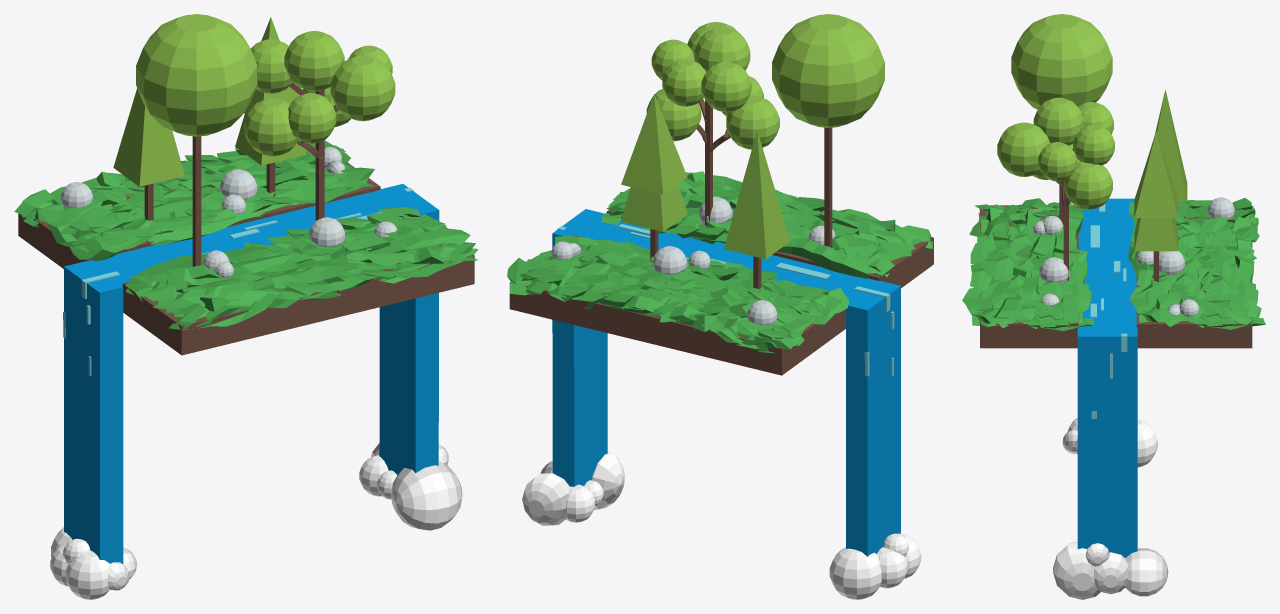
Rendered from Forest by Alex Safayan - 2roPjnG73zv.glb.
The picture shows the model from 3 angles, left to right: view 1: azimuth 30°, elevation 25°; view 2: azimuth 150°, elevation 25°; view 3: azimuth 270°, elevation 25°; orthographic projection. The views are drawn at different scales.
Parts seen in each view (by area): view 1: group467616762, group1762514853, group1962764479, group1963308306, group118700465, group2073899841, group924791414, group2004984180, group793449291, group458020988, group1205465414, group973619513 (+25 smaller); view 2: group467616762, group1762514853, group1962764479, group428175984, group458020988, group924791414, group118700465, group1205465414, group2069381533, group2073899841, group371166117, group1412891936 (+25 smaller); view 3: group1962764479, group1762514853, group118700465, group458020988, group793449291, group428175984, group2004984180, group371166117, group1963308306, group2069381533, group2073899841, group532427426 (+24 smaller).
Part boxes in pixels (x1=…): group467616762: x1=64, y1=261, x2=123, y2=563; group1762514853: x1=136, y1=14, x2=257, y2=136; group1962764479: x1=379, y1=184, x2=439, y2=474; group1963308306: x1=122, y1=244, x2=474, y2=355; group118700465: x1=88, y1=190, x2=403, y2=286; group2073899841: x1=125, y1=268, x2=299, y2=329; group924791414: x1=14, y1=177, x2=246, y2=252; group2004984180: x1=186, y1=222, x2=477, y2=283; group793449291: x1=243, y1=207, x2=475, y2=300; group458020988: x1=92, y1=152, x2=374, y2=218; group1205465414: x1=113, y1=88, x2=184, y2=186; group973619513: x1=391, y1=462, x2=462, y2=530; group467616762: x1=846, y1=280, x2=900, y2=556; group1762514853: x1=772, y1=14, x2=884, y2=127; group1962764479: x1=552, y1=209, x2=607, y2=486; group428175984: x1=509, y1=235, x2=845, y2=375; group458020988: x1=541, y1=237, x2=751, y2=317; group924791414: x1=687, y1=260, x2=842, y2=353; group118700465: x1=578, y1=218, x2=878, y2=302; group1205465414: x1=724, y1=130, x2=790, y2=258; group2069381533: x1=621, y1=94, x2=687, y2=194; group2073899841: x1=820, y1=209, x2=932, y2=276; group371166117: x1=519, y1=235, x2=749, y2=316; group1412891936: x1=829, y1=547, x2=881, y2=599; group1962764479: x1=1077, y1=327, x2=1137, y2=557; group1762514853: x1=1011, y1=14, x2=1112, y2=109; group118700465: x1=1078, y1=208, x2=1136, y2=327; group458020988: x1=1138, y1=216, x2=1236, y2=322; group793449291: x1=962, y1=238, x2=1091, y2=328; group428175984: x1=1136, y1=216, x2=1252, y2=348; group2004984180: x1=972, y1=220, x2=1069, y2=325; group371166117: x1=1129, y1=248, x2=1258, y2=327; group1963308306: x1=980, y1=205, x2=1078, y2=348; group2069381533: x1=1134, y1=131, x2=1178, y2=217; group2073899841: x1=969, y1=198, x2=1078, y2=243; group532427426: x1=997, y1=122, x2=1050, y2=176.
Bounding box in the file's own units: 3.71 × 5.21 × 2.99.
